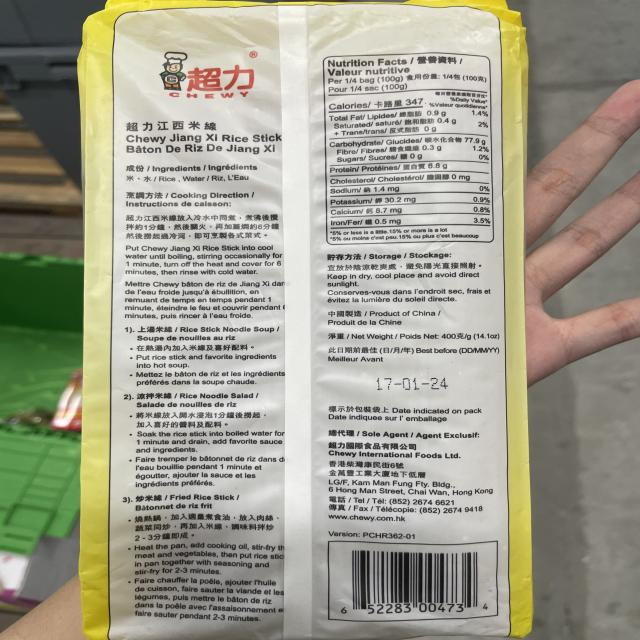object_name: (91, 9, 519, 635)
